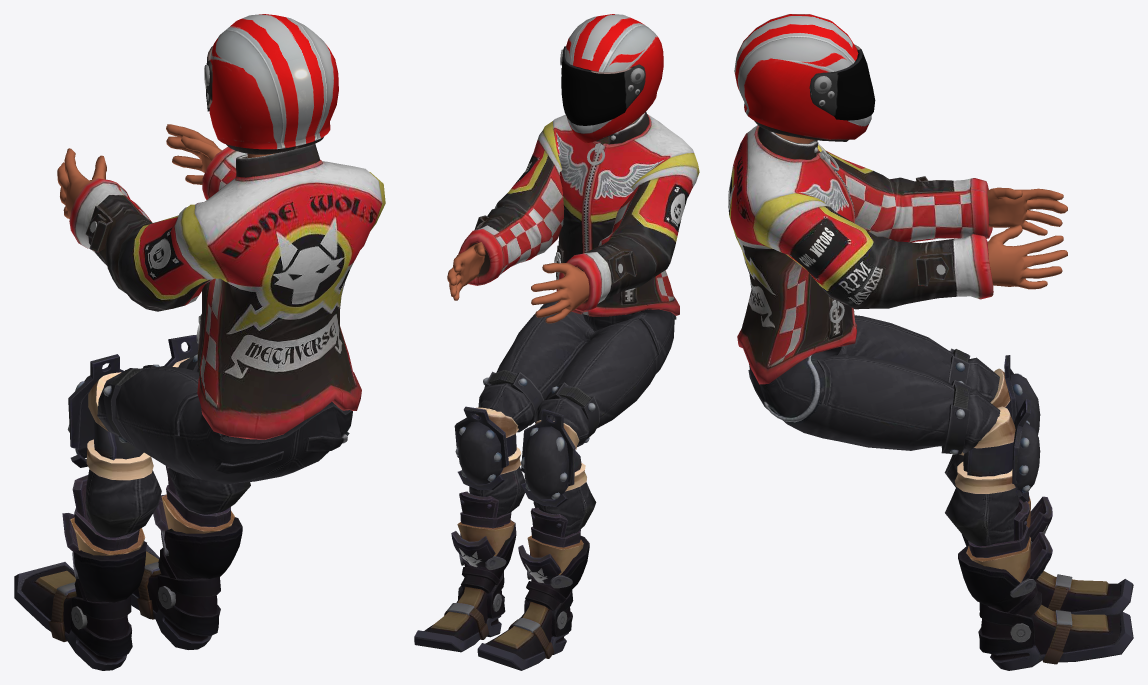
The model's file is driver_human_seated.glb.
3 views of the same model, side by side, from view 1: azimuth 30°, elevation 25°; view 2: azimuth 150°, elevation 25°; view 3: azimuth 270°, elevation 25° (orthographic). The views are drawn at different scales.
Visible parts, largest first — view 1: Object_105_baked, Object_101_baked, Object_103_baked, Object_97_baked, Object_99_baked; view 2: Object_101_baked, Object_105_baked, Object_103_baked, Object_97_baked, Object_99_baked; view 3: Object_105_baked, Object_101_baked, Object_97_baked, Object_103_baked, Object_99_baked.
Part boxes in pixels (box(x1,y1,x2,y2)): Object_105_baked: box(69, 144, 385, 439); Object_101_baked: box(62, 335, 352, 555); Object_103_baked: box(14, 517, 242, 670); Object_97_baked: box(204, 14, 338, 154); Object_99_baked: box(57, 124, 221, 218); Object_101_baked: box(451, 300, 676, 585); Object_105_baked: box(458, 112, 699, 316); Object_103_baked: box(414, 520, 589, 670); Object_97_baked: box(560, 14, 663, 142); Object_99_baked: box(447, 242, 589, 323); Object_105_baked: box(728, 125, 993, 384); Object_101_baked: box(748, 315, 1052, 582); Object_97_baked: box(734, 14, 875, 141); Object_103_baked: box(958, 534, 1133, 670); Object_99_baked: box(987, 187, 1067, 289).
Bounding box in the file's own units: 0.4641 × 1.41 × 0.8213.
Materials: 8 (8 with a texture image).
